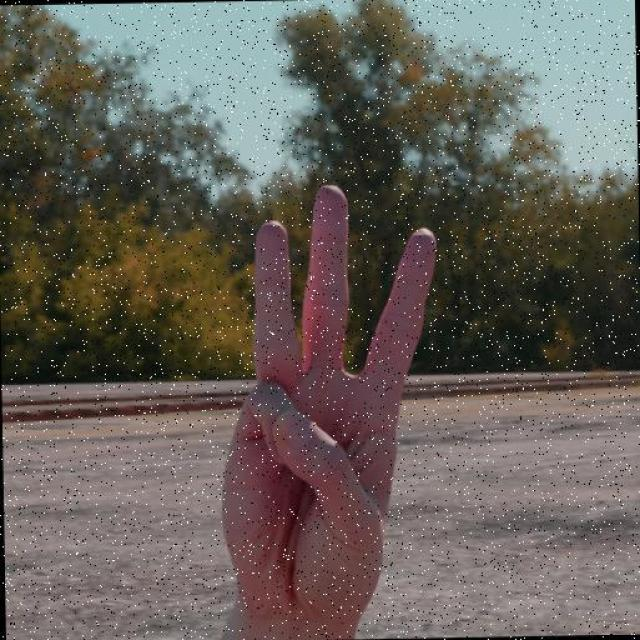W: (186, 165, 473, 640)
